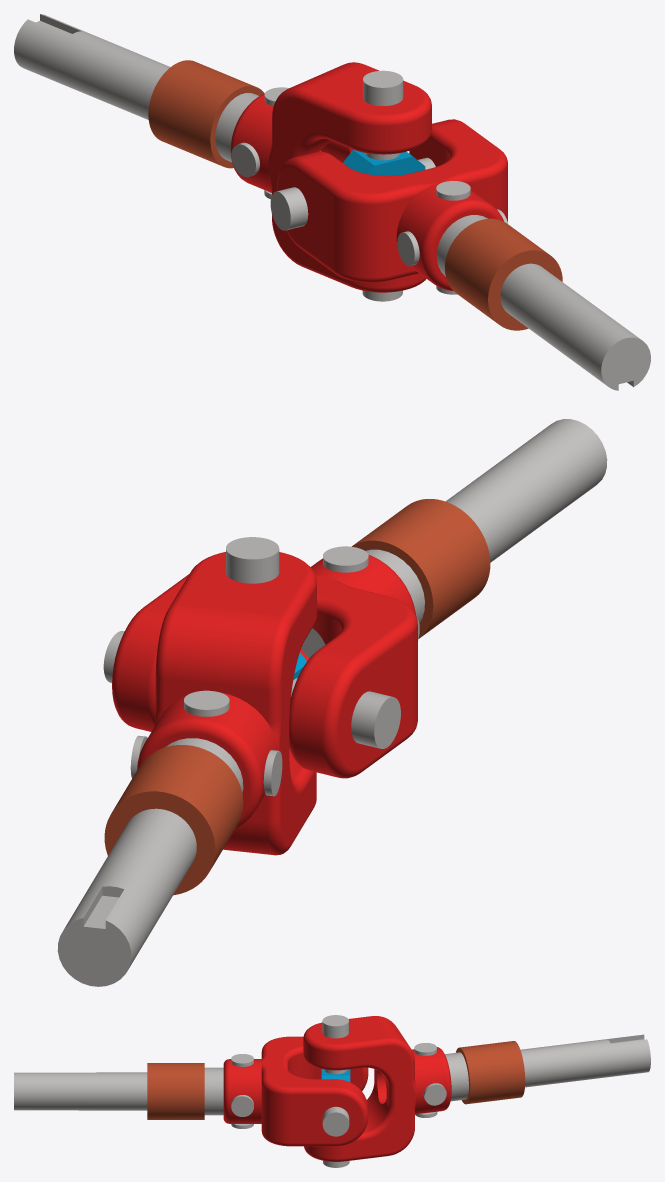
3 renders of one model, top to bottom at view 1: azimuth 30°, elevation 25°; view 2: azimuth 150°, elevation 25°; view 3: azimuth 270°, elevation 25°, orthographic. The views are drawn at different scales.
Visible parts, largest first — view 1: Solid1 (×12); view 2: Solid1 (×10); view 3: Solid1 (×13).
Boxes of the visible parts, bbox=[...] form: Solid1 (×12): bbox=[14, 14, 650, 390]; Solid1 (×10): bbox=[57, 419, 607, 986]; Solid1 (×13): bbox=[14, 1015, 650, 1161].
Bounding box in the file's own units: 0.0967 × 0.082 × 0.3343.
